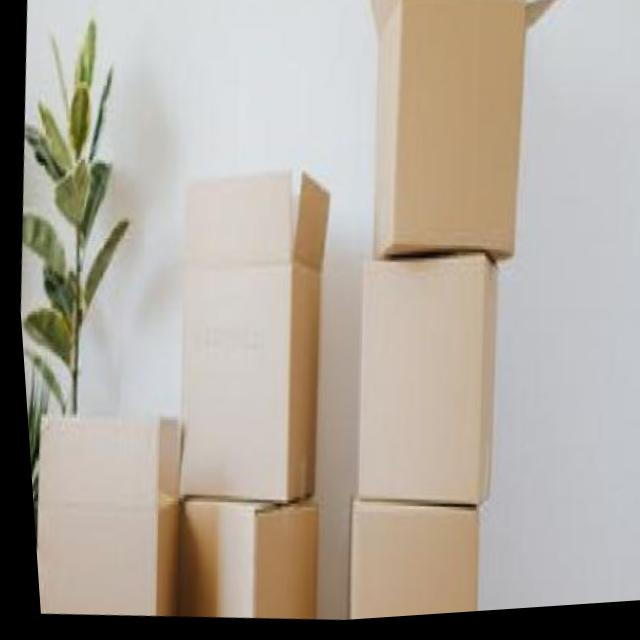box: (152, 166, 347, 518), (342, 0, 542, 277), (330, 244, 512, 529), (21, 391, 183, 625), (162, 491, 330, 631), (326, 485, 487, 624)
